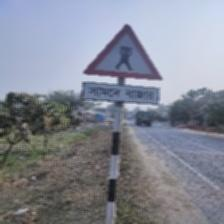Market-in-front: (82, 24, 165, 106)
